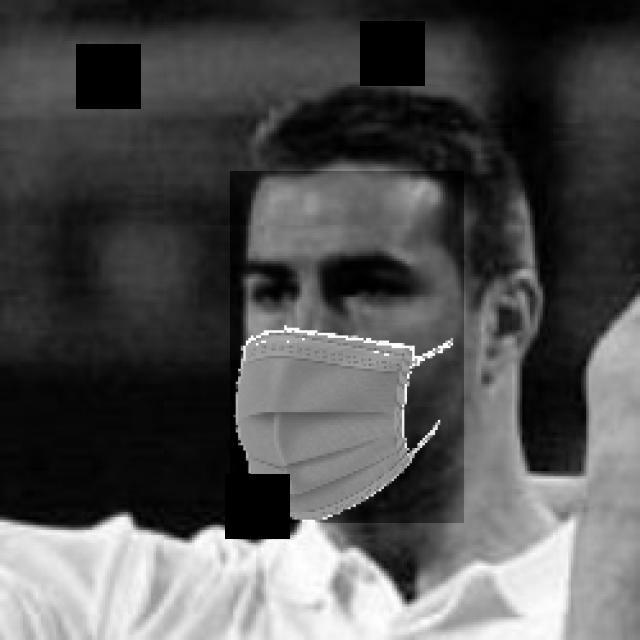surgical: (231, 171, 465, 523)
